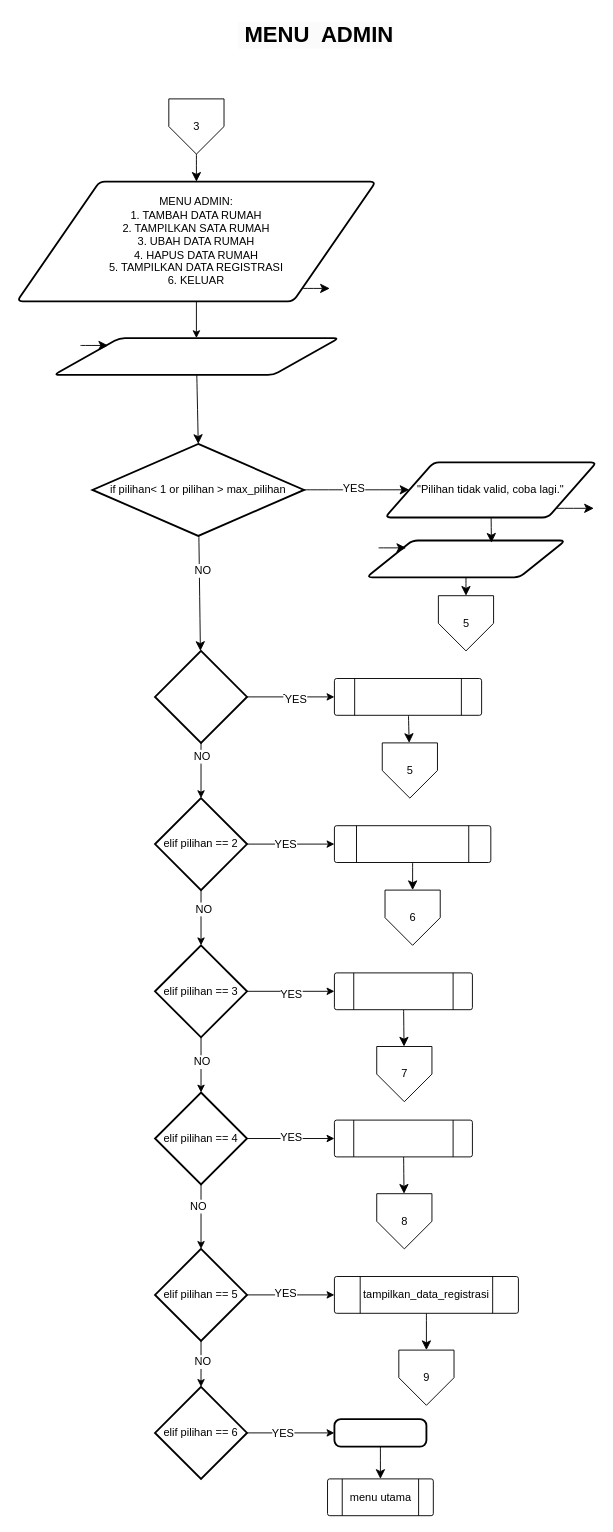
Some shapes in this 613 by 1532 pixel diagram are drawn without their labels. Each missing label, with the box of its shape:
"Masukkan pilihan menu: ": (52, 337, 339, 375)
"Masukkan pilihan: ": (365, 539, 566, 578)
break: (333, 1418, 427, 1447)
hapus_data_rumah: (334, 1119, 472, 1157)
if pilihan == 1: (154, 650, 247, 743)
tambah_data_rumah: (334, 678, 482, 715)
tampilkan_data_rumah: (334, 825, 491, 862)
ubah_data_rumah: (334, 972, 472, 1010)
